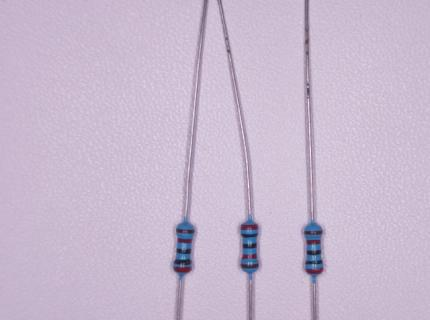Black band: (174, 259, 192, 265), (305, 259, 323, 264), (242, 243, 257, 249), (240, 233, 258, 238), (177, 248, 192, 254), (307, 250, 321, 256)
Brown band: (176, 228, 195, 234), (240, 264, 260, 269), (304, 230, 323, 235)
Red band: (174, 267, 192, 273), (241, 224, 258, 230), (306, 268, 323, 274), (177, 238, 193, 244), (306, 239, 321, 245), (242, 254, 257, 259)
